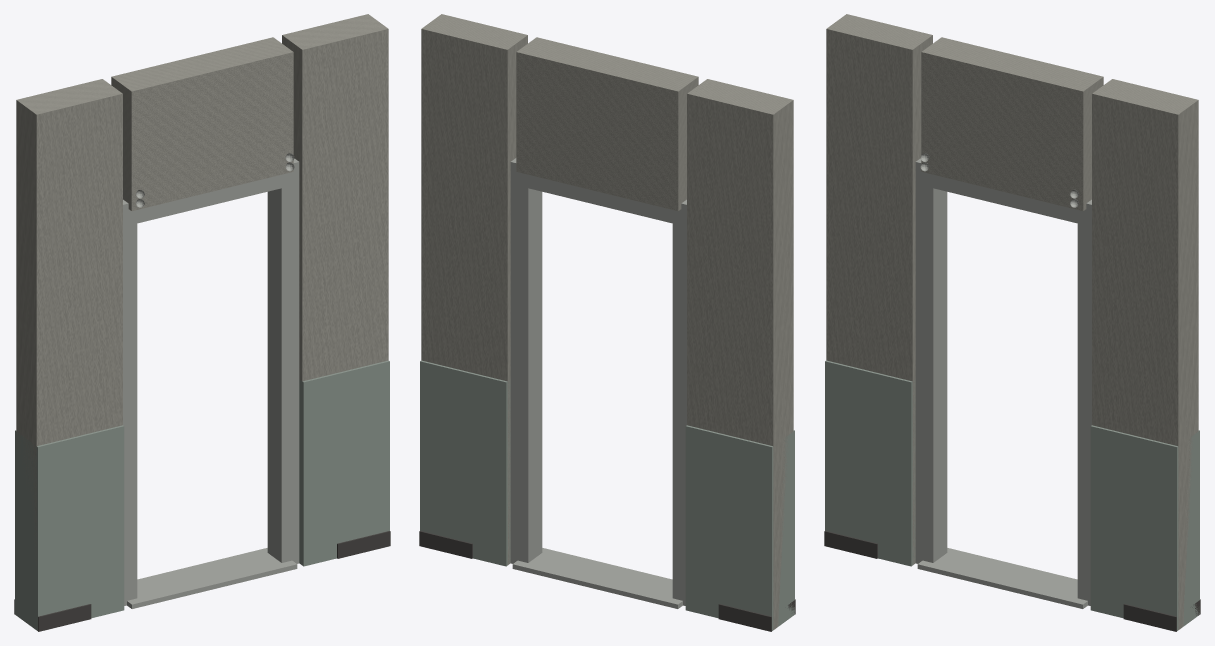
File: signal-house-institutional-doorway__192.glb
3 views of the same model, side by side, from view 1: azimuth 30°, elevation 25°; view 2: azimuth 150°, elevation 25°; view 3: azimuth 330°, elevation 25° (orthographic).
Visible parts, largest first — view 1: stone, shell, metal, dark; view 2: stone, shell, metal, dark; view 3: stone, shell, metal, dark.
Part boxes in pixels (box(x1,y1,x2,y2)): stone: box(16, 14, 388, 565); shell: box(15, 360, 389, 630); metal: box(123, 153, 299, 608); dark: box(14, 531, 390, 631); stone: box(421, 14, 793, 629); shell: box(420, 360, 794, 630); metal: box(510, 158, 686, 608); dark: box(419, 531, 795, 631); stone: box(826, 14, 1198, 629); shell: box(825, 360, 1199, 630); metal: box(915, 153, 1091, 608); dark: box(824, 531, 1200, 631).
Bounding box in the file's own units: 2 × 2.8 × 0.267.
Materials: 4 (1 with a texture image).
